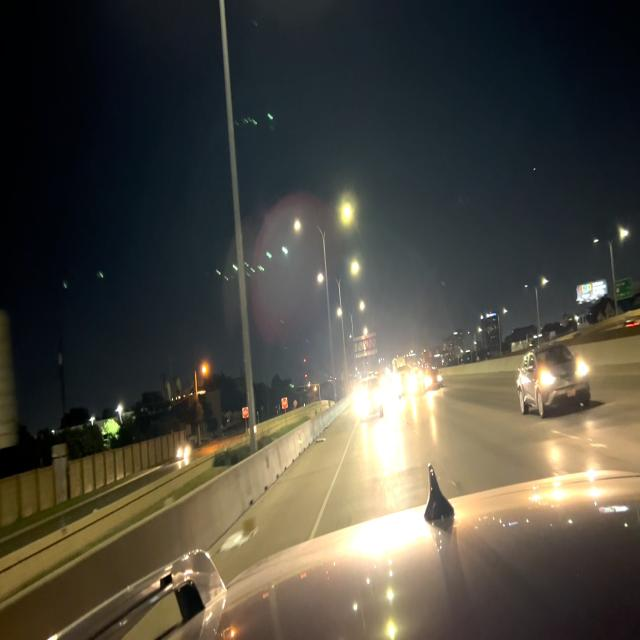back-of-sign: (355, 332, 379, 362)
